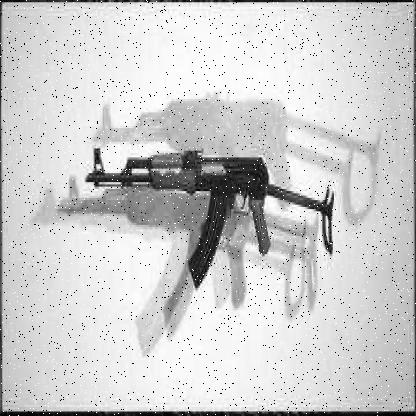rifle: (69, 133, 340, 310)
